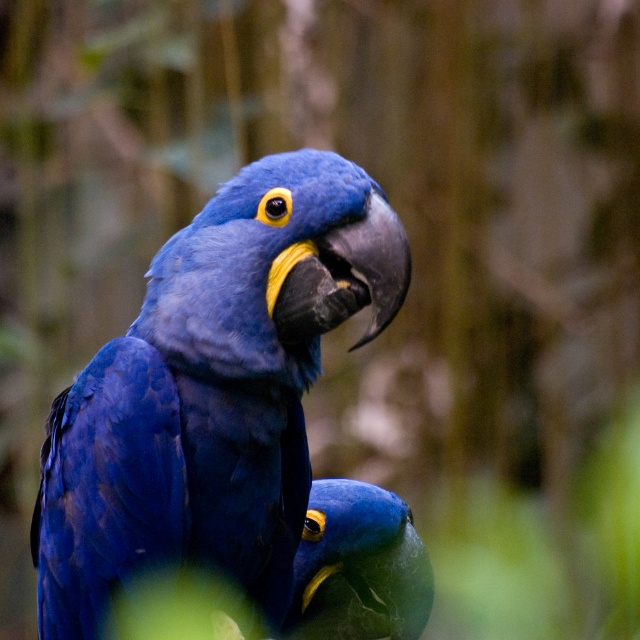Parrot: (27, 142, 415, 639), (288, 469, 438, 635)
